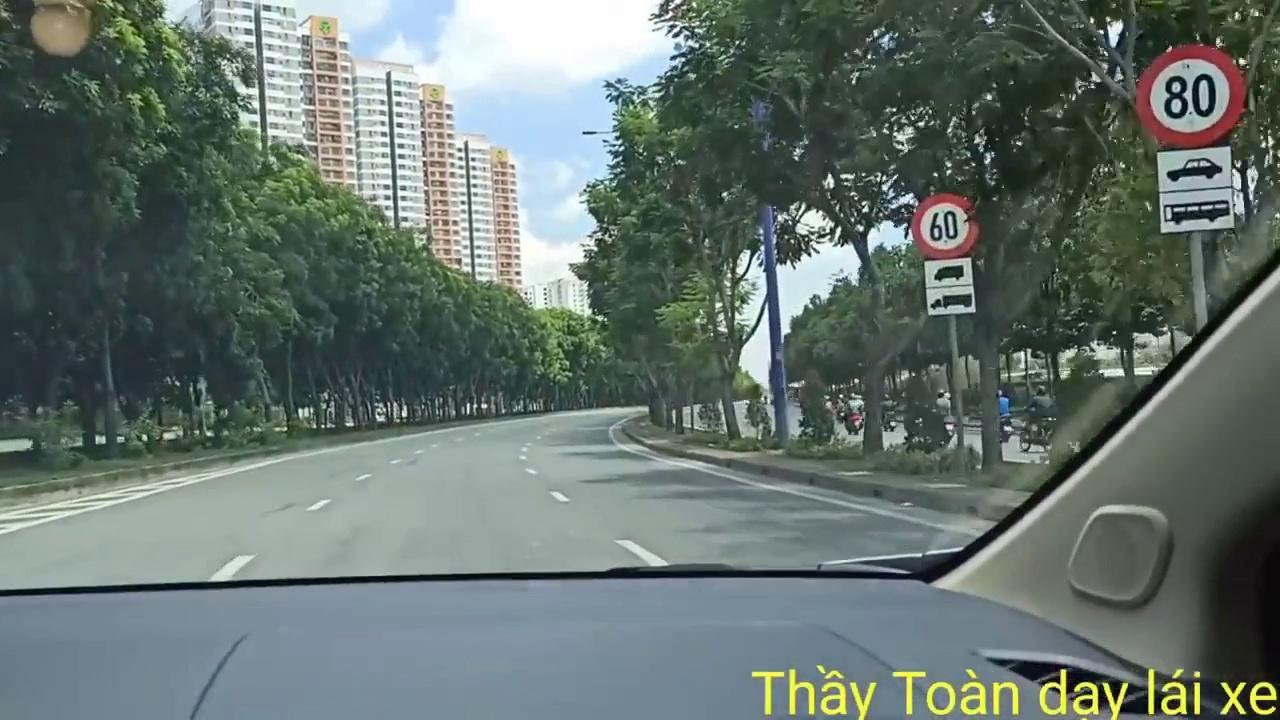Biển phụ: (1156, 150, 1236, 234), (923, 260, 977, 317)
GIơi hạn tốc độ 60Km/h: (913, 192, 980, 258)
Giới hạn tốc độ 80Km/h: (1134, 42, 1248, 146)
